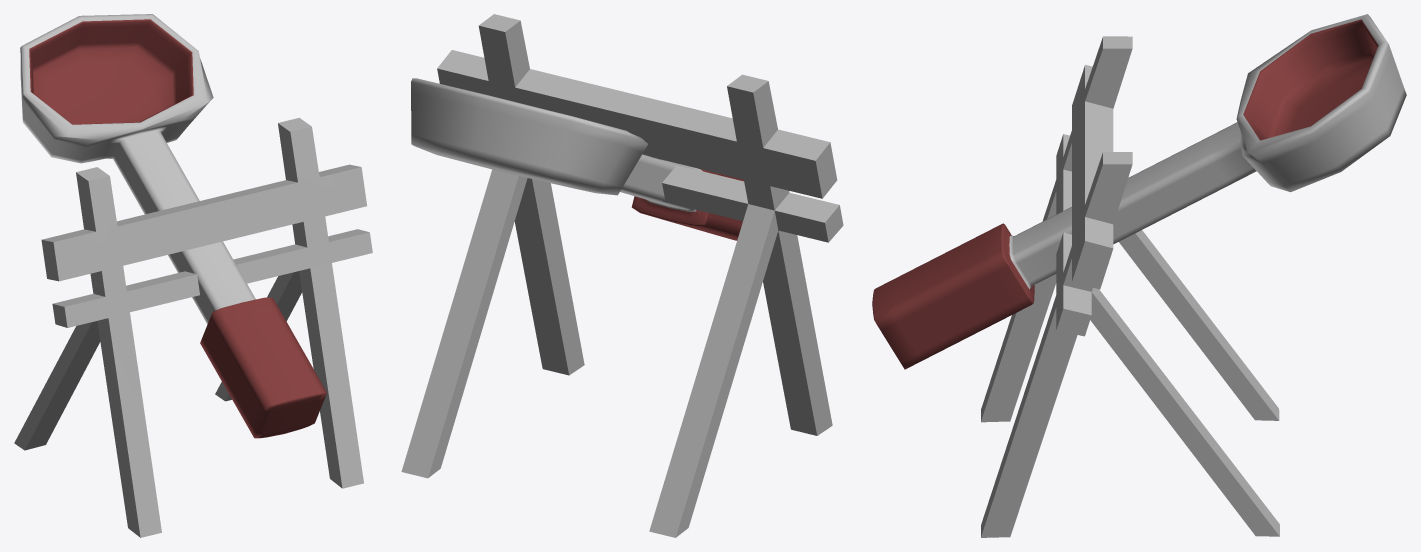
The model's file is Catapolt.fbx.
3 views of the same model, side by side, from view 1: azimuth 30°, elevation 25°; view 2: azimuth 150°, elevation 25°; view 3: azimuth 270°, elevation 25° (orthographic). The views are drawn at different scales.
Visible parts, largest first — view 1: Catapult; view 2: Catapult; view 3: Catapult.
Part boxes in pixels (left/top/right/bottom): Catapult: left=14, top=14, right=372, bottom=537; Catapult: left=401, top=14, right=843, bottom=537; Catapult: left=872, top=14, right=1406, bottom=537.
Size of the model in its own units: 306 by 350 by 392.
